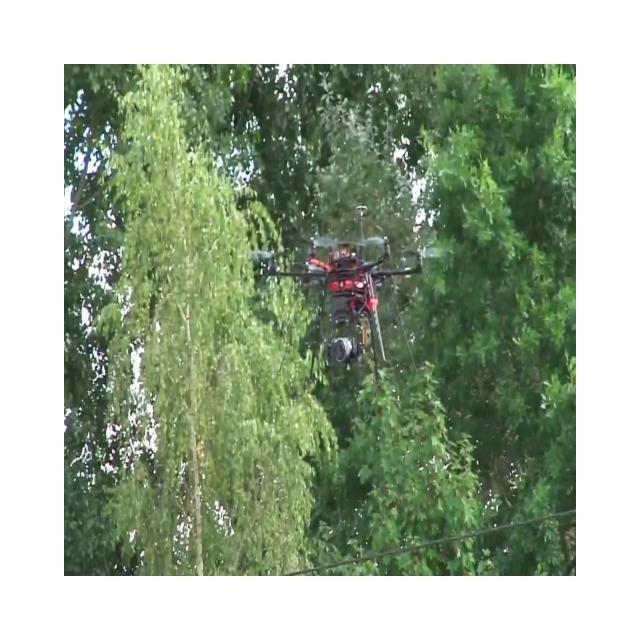drone: (246, 203, 453, 376)
